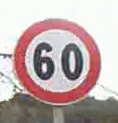limite 60: (12, 18, 100, 105)
